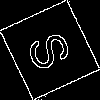S: (24, 24, 82, 74)
